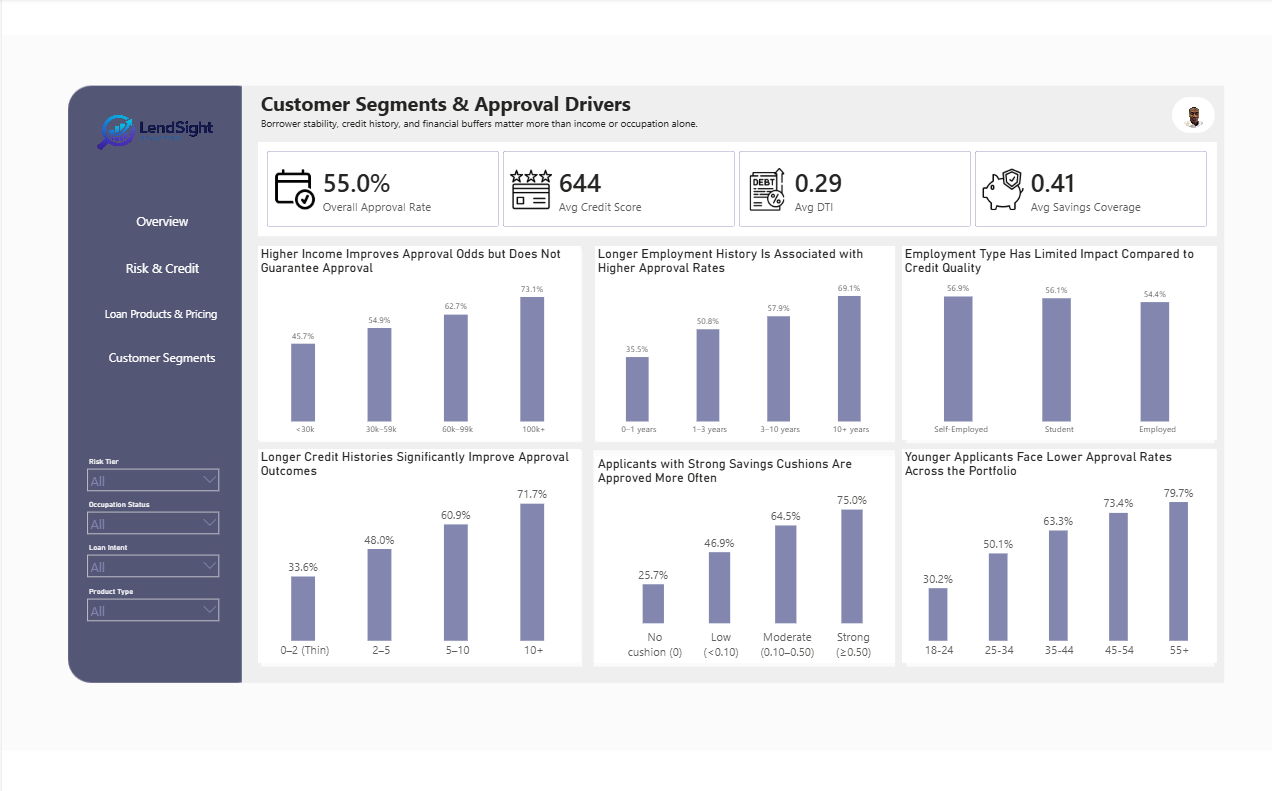

The page's visual inventory and layout, read from the dashboard file:
{"tool":"powerbi","page":{"name":"Customer Segments & Drivers","canvas":[2400,1500],"ordinal":3},"visuals":[{"type":"clusteredColumnChart","title":"Younger Applicants Face Lower Approval Rates Across the Portfolio","fields":{"Y":["Measure Table.Approval Rate %"],"Category":["Loan_data.Age Band"]},"box":[1700.8,852.3,595.3,404.4],"z":0},{"type":"clusteredColumnChart","title":"Employment Type Has Limited Impact Compared to Credit Quality","fields":{"Y":["Measure Table.Approval Rate %"],"Category":["Loan_data.occupation_status"]},"box":[1700.8,468.7,595.3,366.6],"z":1000},{"type":"clusteredColumnChart","title":"Applicants with Strong Savings Cushions Are Approved More Often","fields":{"Y":["Measure Table.Approval Rate %"],"Category":["Loan_data.Savings Coverage Band"]},"box":[1120.6,865.5,566.9,391.2],"z":2000},{"type":"clusteredColumnChart","title":"Longer Employment History Is Associated with Higher Approval Rates","fields":{"Y":["Measure Table.Approval Rate %"],"Category":["Loan_data.Employment Tenure Band"]},"box":[1120.6,468.7,566.9,366.6],"z":3000},{"type":"clusteredColumnChart","title":"Longer Credit Histories Significantly Improve Approval Outcomes","fields":{"Y":["Measure Table.Approval Rate %"],"Category":["Loan_data.Credit History Band"]},"box":[483.8,852.3,610.4,404.4],"z":4000},{"type":"clusteredColumnChart","title":"Higher Income Improves Approval Odds but Does Not Guarantee Approval","fields":{"Y":["Measure Table.Approval Rate %"],"Category":["Loan_data.Income Band"]},"box":[483.8,468.7,610.4,366.6],"z":5000},{"type":"cardVisual","fields":{"Data":["DAX Measures.Overall Approval Rate","DAX Measures.Avg Credit Score","DAX Measures.Avg DTI","DAX Measures.Avg Savings Coverage"]},"box":[483.8,272.1,1812.3,177.6],"z":6000},{"type":"textbox","box":[483.8,168.2,1069.6,69.9],"z":7000},{"type":"slicer","fields":{"Values":["Loan_data.Risk Tier"]},"box":[151.7,861.3,269.3,82.2],"z":8000},{"type":"slicer","fields":{"Values":["Loan_data.occupation_status"]},"box":[151.7,943.5,269.3,80.8],"z":9000},{"type":"slicer","fields":{"Values":["Loan_data.loan_intent"]},"box":[151.7,1024.3,269.3,82.2],"z":10000},{"type":"slicer","fields":{"Values":["Loan_data.product_type"]},"box":[151.7,1106.5,269.3,80.8],"z":11000},{"type":"actionButton","box":[179.5,391.2,245.7,58.6],"z":12000},{"type":"actionButton","box":[181.4,481.9,243.8,56.7],"z":13000},{"type":"actionButton","box":[179.5,566.9,241.9,58.6],"z":14000},{"type":"actionButton","box":[179.5,652,245.7,54.8],"z":15000},{"type":"image","box":[2211,187.1,81.3,68],"z":15001},{"type":"image","box":[122.8,168.2,328.8,192.8],"z":15002},{"type":"textbox","box":[483.8,219.2,1069.6,69.9],"z":15003}]}

Visuals, with their boxes on the page's 2400x1500 design canvas (x1, y1, x2, y2). These are canvas units, not pixel positions in the 1272x791 screenshot, which may show the page scaled, cropped or inside an application window:
"Younger Applicants Face Lower Approval Rates Across the Portfolio" clusteredColumnChart: bbox(1701, 852, 2296, 1257)
"Employment Type Has Limited Impact Compared to Credit Quality" clusteredColumnChart: bbox(1701, 469, 2296, 835)
"Applicants with Strong Savings Cushions Are Approved More Often" clusteredColumnChart: bbox(1121, 866, 1688, 1257)
"Longer Employment History Is Associated with Higher Approval Rates" clusteredColumnChart: bbox(1121, 469, 1688, 835)
"Longer Credit Histories Significantly Improve Approval Outcomes" clusteredColumnChart: bbox(484, 852, 1094, 1257)
"Higher Income Improves Approval Odds but Does Not Guarantee Approval" clusteredColumnChart: bbox(484, 469, 1094, 835)
cardVisual - DAX Measures.Overall Approval Rate x DAX Measures.Avg Credit Score: bbox(484, 272, 2296, 450)
textbox: bbox(484, 168, 1553, 238)
slicer - Loan_data.Risk Tier: bbox(152, 861, 421, 944)
slicer - Loan_data.occupation_status: bbox(152, 944, 421, 1024)
slicer - Loan_data.loan_intent: bbox(152, 1024, 421, 1106)
slicer - Loan_data.product_type: bbox(152, 1106, 421, 1187)
actionButton: bbox(180, 391, 425, 450)
actionButton: bbox(181, 482, 425, 539)
actionButton: bbox(180, 567, 421, 626)
actionButton: bbox(180, 652, 425, 707)
image: bbox(2211, 187, 2292, 255)
image: bbox(123, 168, 452, 361)
textbox: bbox(484, 219, 1553, 289)
